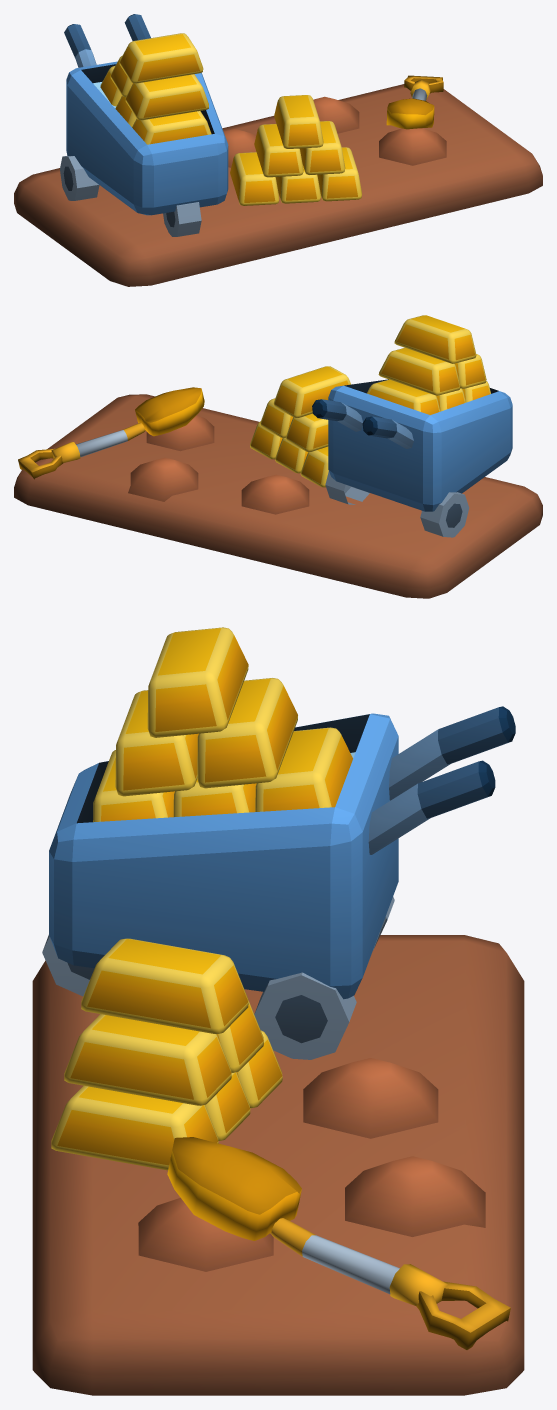
The model's file is Gold-Bar-Ground.fbx.
The picture shows the model from 3 angles, top to bottom: view 1: azimuth 30°, elevation 25°; view 2: azimuth 150°, elevation 25°; view 3: azimuth 270°, elevation 25°; orthographic projection. The views are drawn at different scales.
Parts seen in each view (by area): view 1: gold bar-ground; view 2: gold bar-ground; view 3: gold bar-ground.
Part boxes in pixels (<box>): gold bar-ground: <box>14,14,542,286</box>; gold bar-ground: <box>14,315,542,598</box>; gold bar-ground: <box>32,627,524,1395</box>.
Size of the model in its own units: 392 by 176 by 194.
